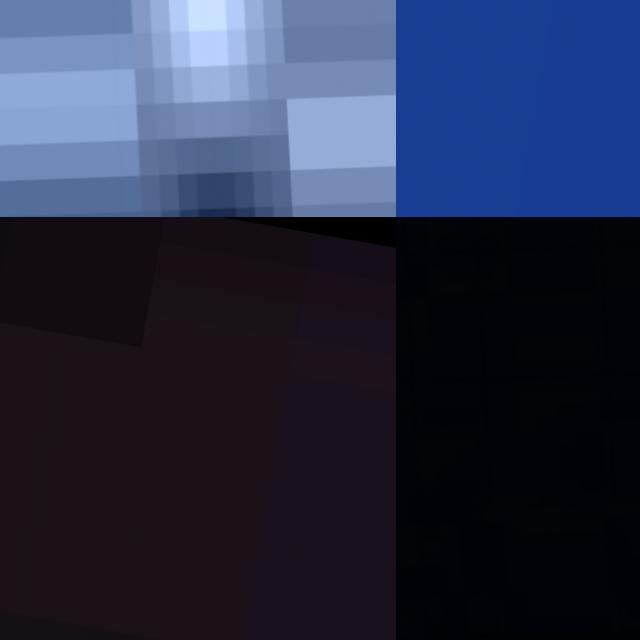drone: (396, 217, 640, 640), (0, 0, 396, 217)
